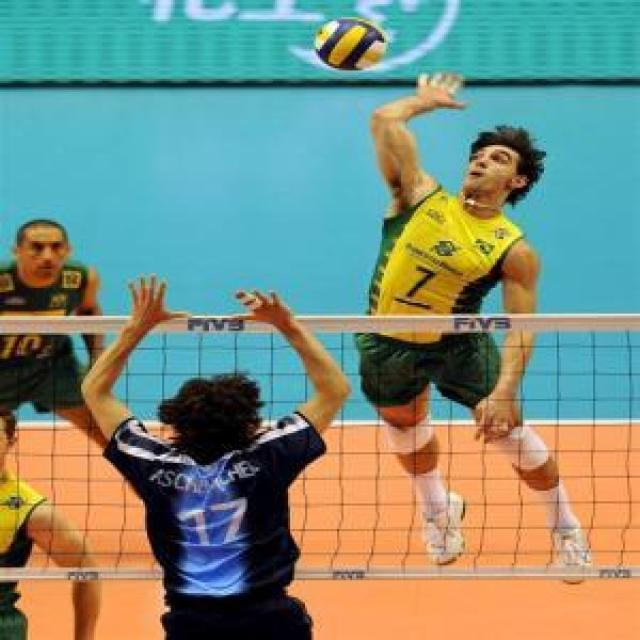volleyball: (313, 17, 385, 70)
